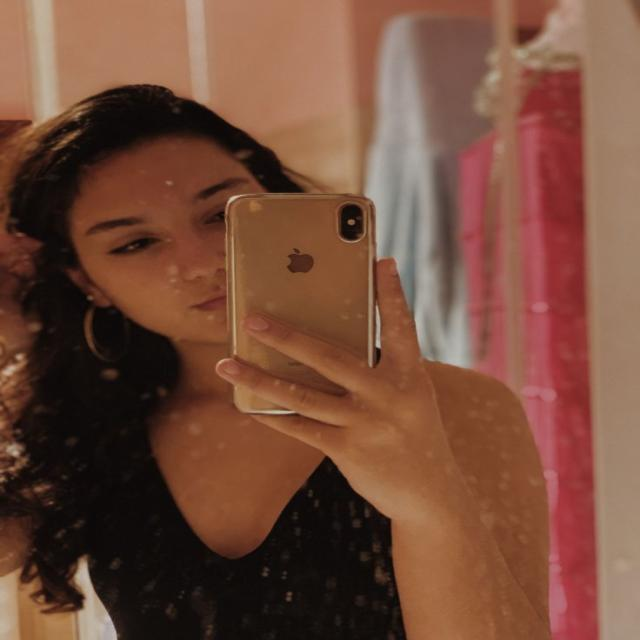phone: (226, 194, 373, 415)
